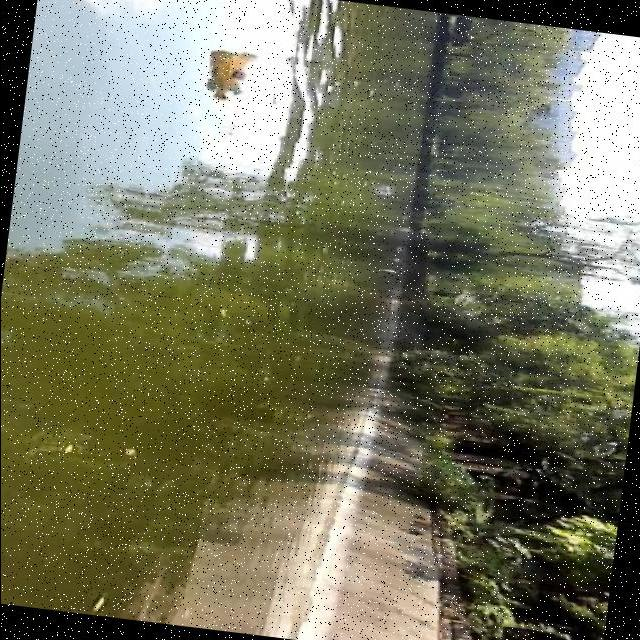Bottle: (209, 40, 259, 116)
